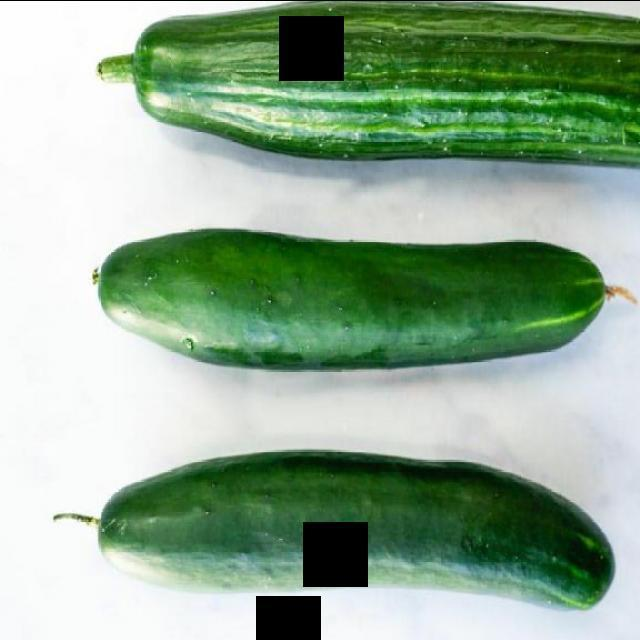cucumber: (61, 450, 620, 626), (95, 0, 640, 171), (84, 222, 624, 376)
